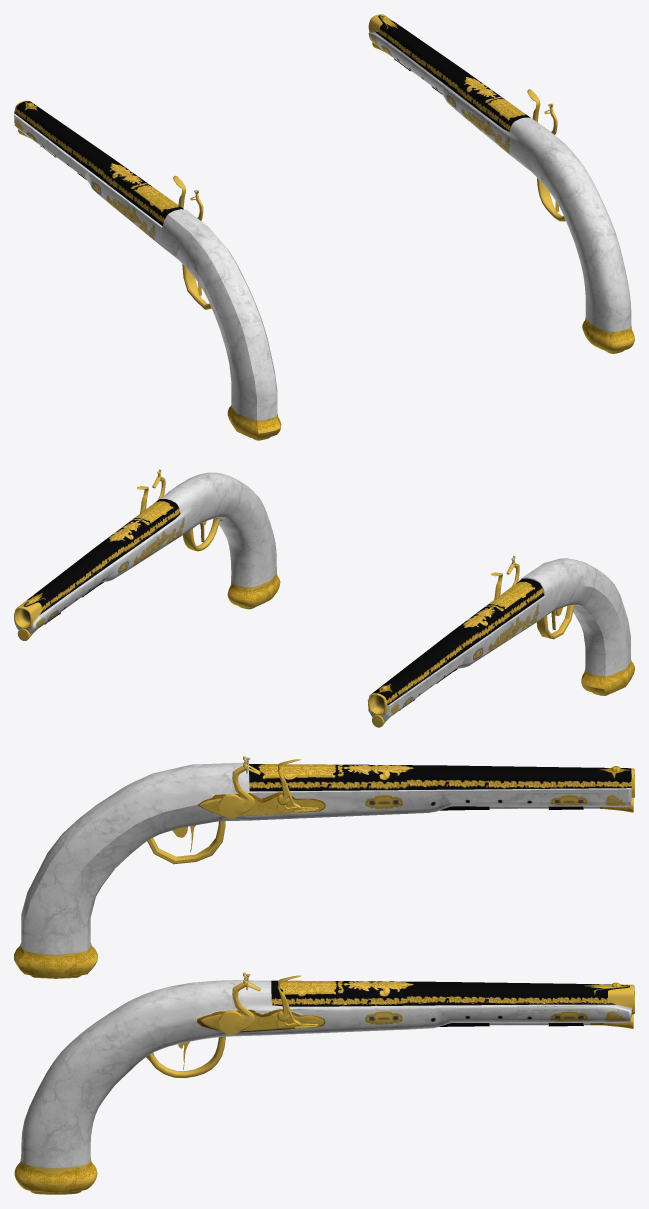
Rendered from gun-model.glb.
3 views of the same model, one above another, from view 1: azimuth 30°, elevation 25°; view 2: azimuth 150°, elevation 25°; view 3: azimuth 270°, elevation 25° (orthographic). The views are drawn at different scales.
Visible parts, largest first — view 1: pCube1, Pistola.001; view 2: pCube1, Pistola.001; view 3: pCube1, Pistola.001, Lever, pCylinder6.
Part boxes in pixels (box(x1,y1,x2,y2)): pCube1: box(14, 100, 281, 440); Pistola.001: box(368, 14, 634, 353); pCube1: box(367, 558, 634, 720); Pistola.001: box(14, 472, 280, 633); pCube1: box(14, 762, 634, 978); Pistola.001: box(14, 980, 634, 1194); Lever: box(219, 972, 260, 1034); pCylinder6: box(219, 756, 260, 818).
Size of the model in its own units: 0.0825 by 0.0366 by 0.0897.
1 material, 1 textured.
